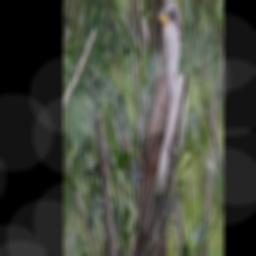Cuckoo: (127, 0, 187, 256)
